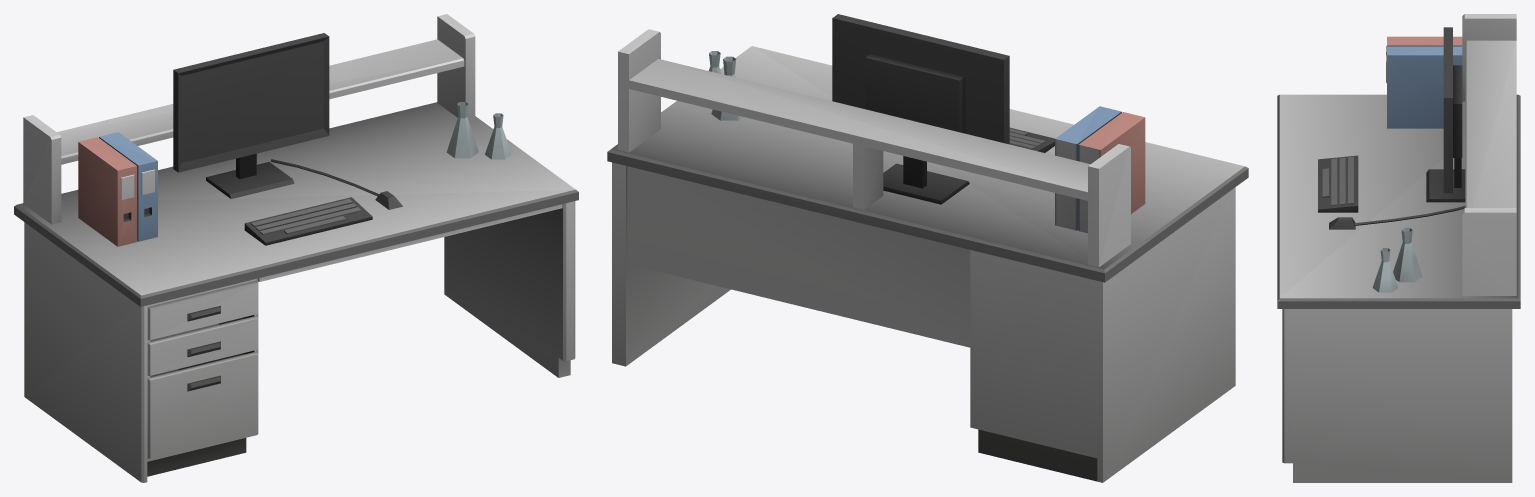
The model's file is desk.glb.
3 renders of one model, left to right at view 1: azimuth 30°, elevation 25°; view 2: azimuth 150°, elevation 25°; view 3: azimuth 270°, elevation 25°, orthographic. The views are drawn at different scales.
Visible parts, largest first — view 1: desk.001; view 2: desk.001; view 3: desk.001.
Part boxes in pixels (x1,y1,x2,y2): desk.001: (14,14,578,482); desk.001: (607,14,1248,482); desk.001: (1277,14,1520,482).
Bounding box in the file's own units: 1.8 × 1.26 × 0.9.
